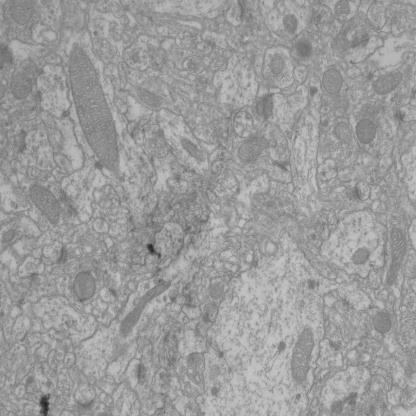mitochondria: (68, 44, 120, 174), (120, 280, 169, 342), (291, 326, 314, 388), (10, 58, 42, 101), (386, 226, 407, 289), (29, 185, 62, 225), (72, 269, 98, 302), (6, 0, 36, 27), (237, 138, 268, 162), (374, 72, 404, 95), (321, 66, 344, 96), (180, 136, 206, 162), (136, 84, 164, 108), (355, 118, 377, 144), (334, 119, 353, 144), (372, 310, 391, 334), (295, 39, 314, 62), (271, 52, 287, 76), (352, 247, 371, 266), (282, 12, 298, 34), (208, 280, 225, 300), (334, 0, 350, 17)
